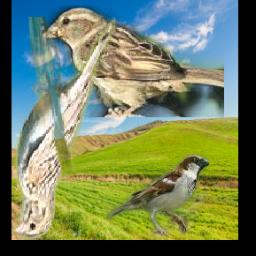Sparrow: (12, 17, 116, 240), (43, 7, 225, 118), (106, 154, 209, 238)
